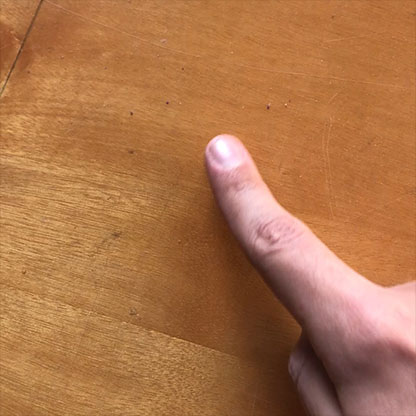fingertip: (193, 127, 260, 188)
